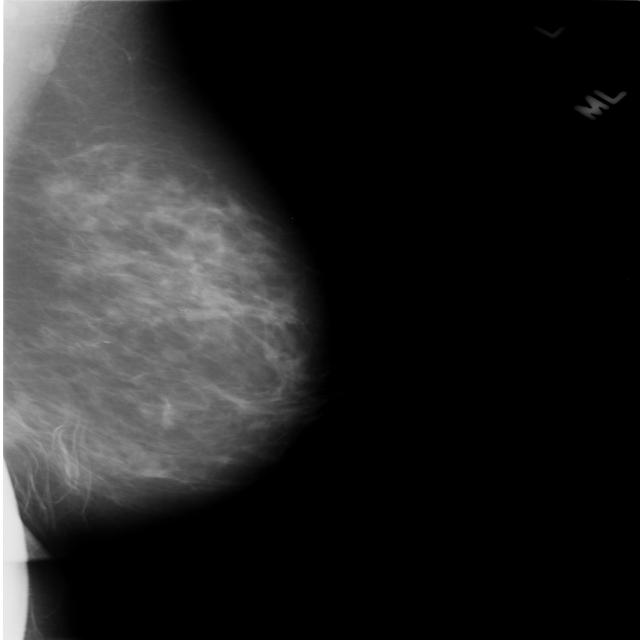normal: (0, 4, 312, 516)
